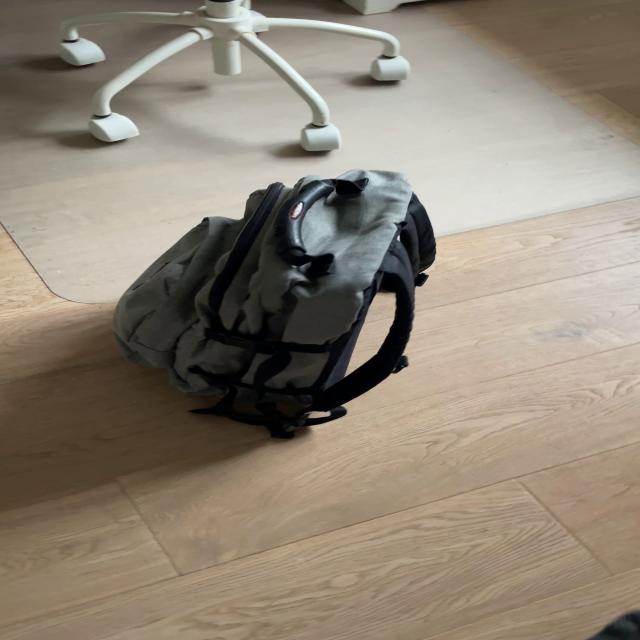backpack: (99, 157, 447, 441)
